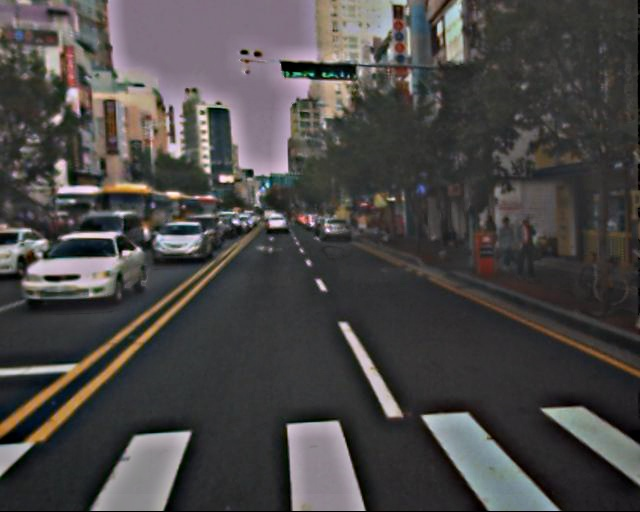person: (511, 214, 538, 280), (495, 214, 519, 272), (480, 215, 500, 264), (435, 208, 453, 252), (418, 207, 434, 245)
